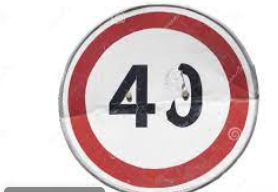Speed limit: (51, 3, 268, 187)
